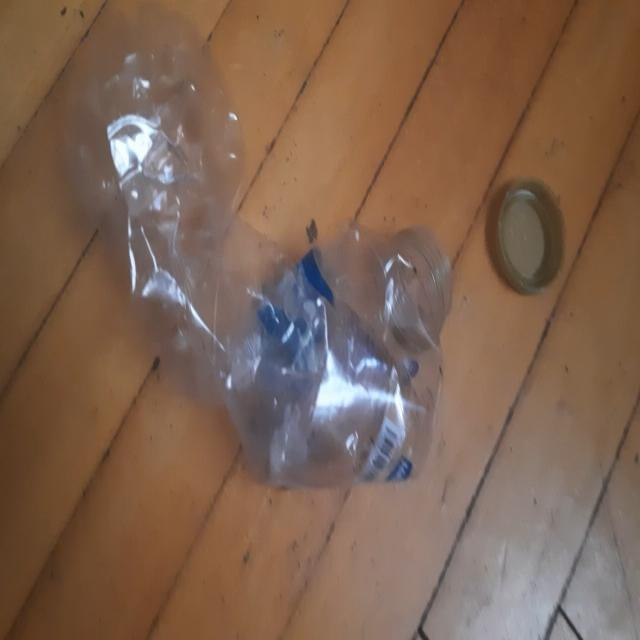Plastic: (104, 21, 450, 491)
